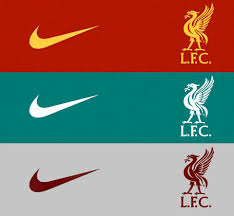nike: (16, 159, 105, 195), (17, 91, 104, 124), (23, 26, 112, 56)
